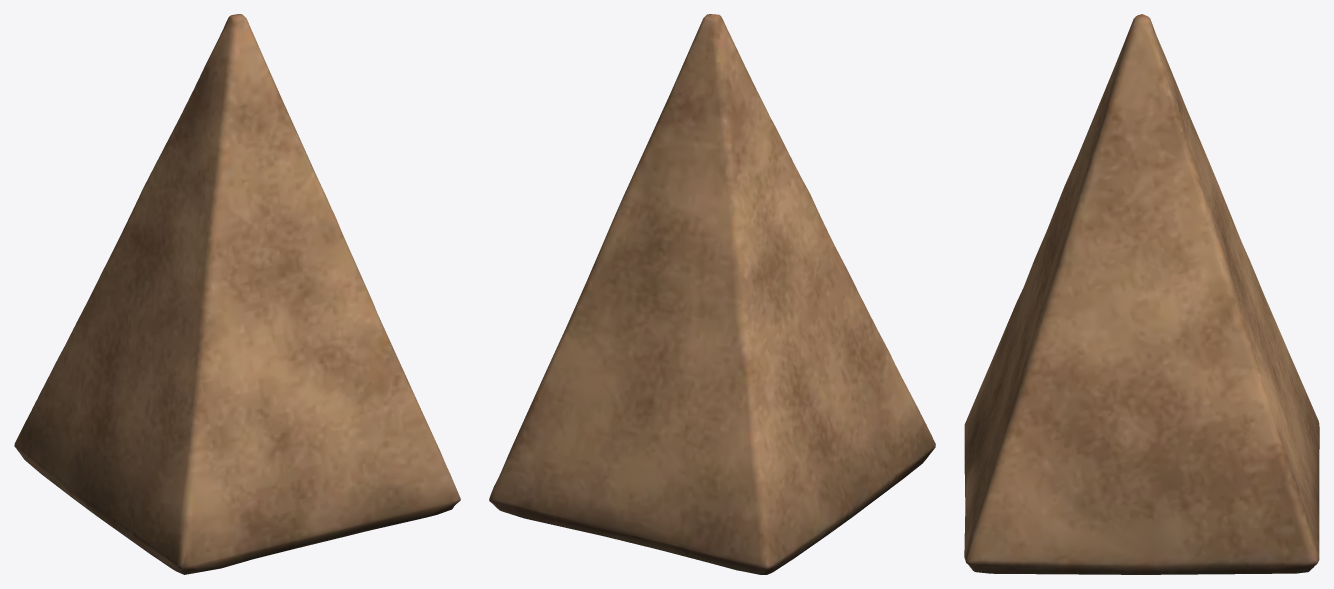
The model's file is worn-sandstone-obelisk-v001.glb.
3 renders of one model, left to right at view 1: azimuth 30°, elevation 25°; view 2: azimuth 150°, elevation 25°; view 3: azimuth 270°, elevation 25°, orthographic. The views are drawn at different scales.
Visible parts, largest first — view 1: worn-sandstone-obelisk; view 2: worn-sandstone-obelisk; view 3: worn-sandstone-obelisk.
Boxes of the visible parts, left/top/right/bottom form: worn-sandstone-obelisk: left=14, top=14, right=460, bottom=574; worn-sandstone-obelisk: left=489, top=14, right=935, bottom=574; worn-sandstone-obelisk: left=964, top=14, right=1319, bottom=574.
Bounding box in the file's own units: 1.31 × 2.05 × 1.35.
Materials: 1 (1 with a texture image).
